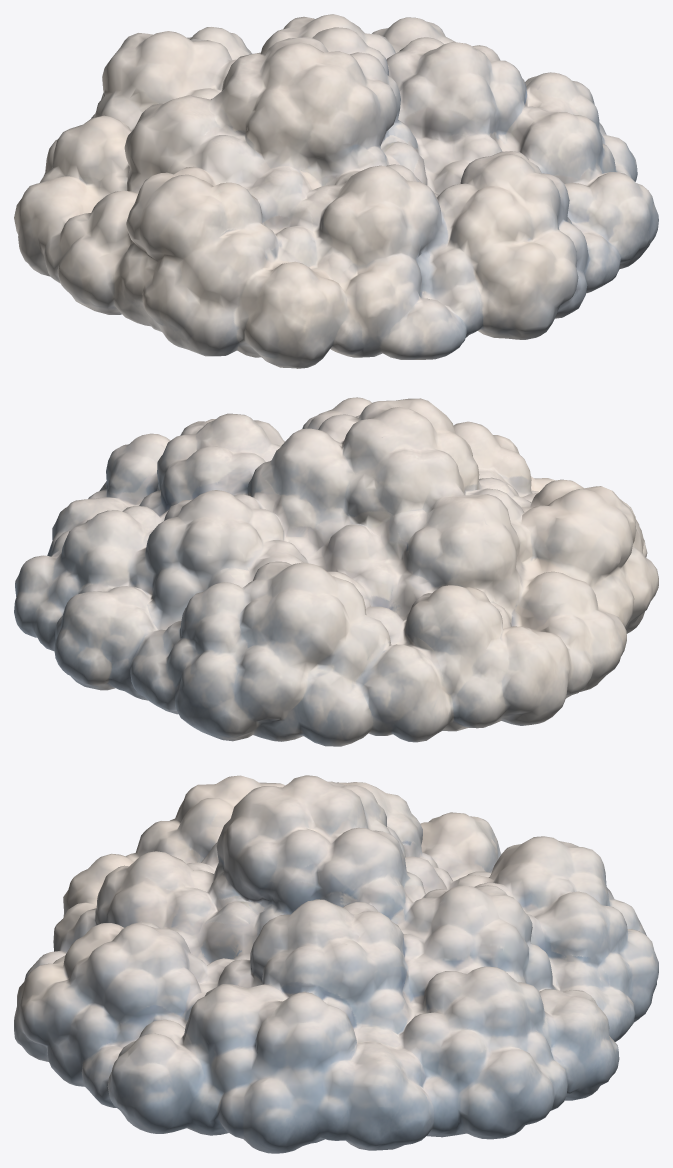
Rendered from VAR_Angel_CloudBank.fbx.
The picture shows the model from 3 angles, top to bottom: view 1: azimuth 30°, elevation 25°; view 2: azimuth 150°, elevation 25°; view 3: azimuth 270°, elevation 25°; orthographic projection. The views are drawn at different scales.
Parts seen in each view (by area): view 1: texture_mapping; view 2: texture_mapping; view 3: texture_mapping.
Part boxes in pixels (left/top/right/bottom): texture_mapping: left=14, top=14, right=658, bottom=368; texture_mapping: left=14, top=397, right=658, bottom=746; texture_mapping: left=14, top=775, right=658, bottom=1153.
Bounding box in the file's own units: 0.9994 × 0.9972 × 0.4005.
Materials: 1 (1 with a texture image).
